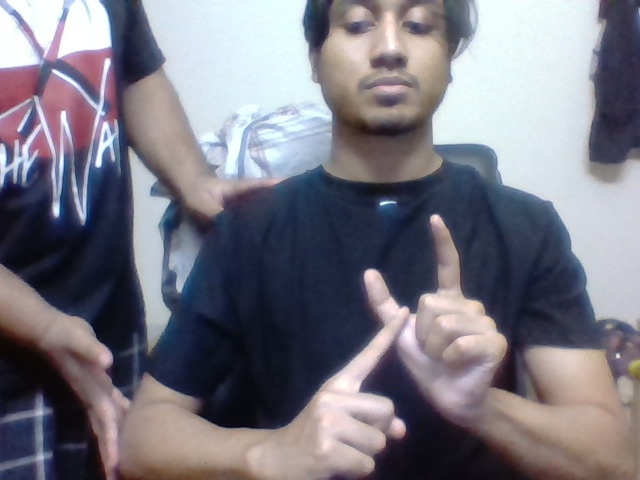Y: (344, 206, 466, 395)
